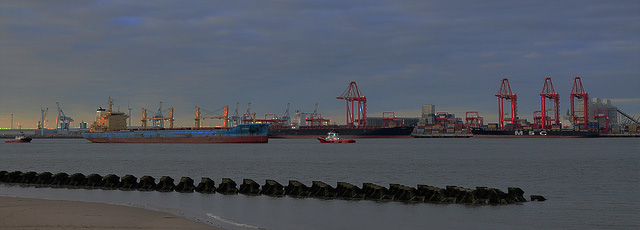bulk carrier: (82, 100, 267, 144)
container_ship: (272, 112, 421, 138), (468, 113, 602, 141)
tug_boat: (317, 129, 360, 144), (6, 128, 36, 142)
